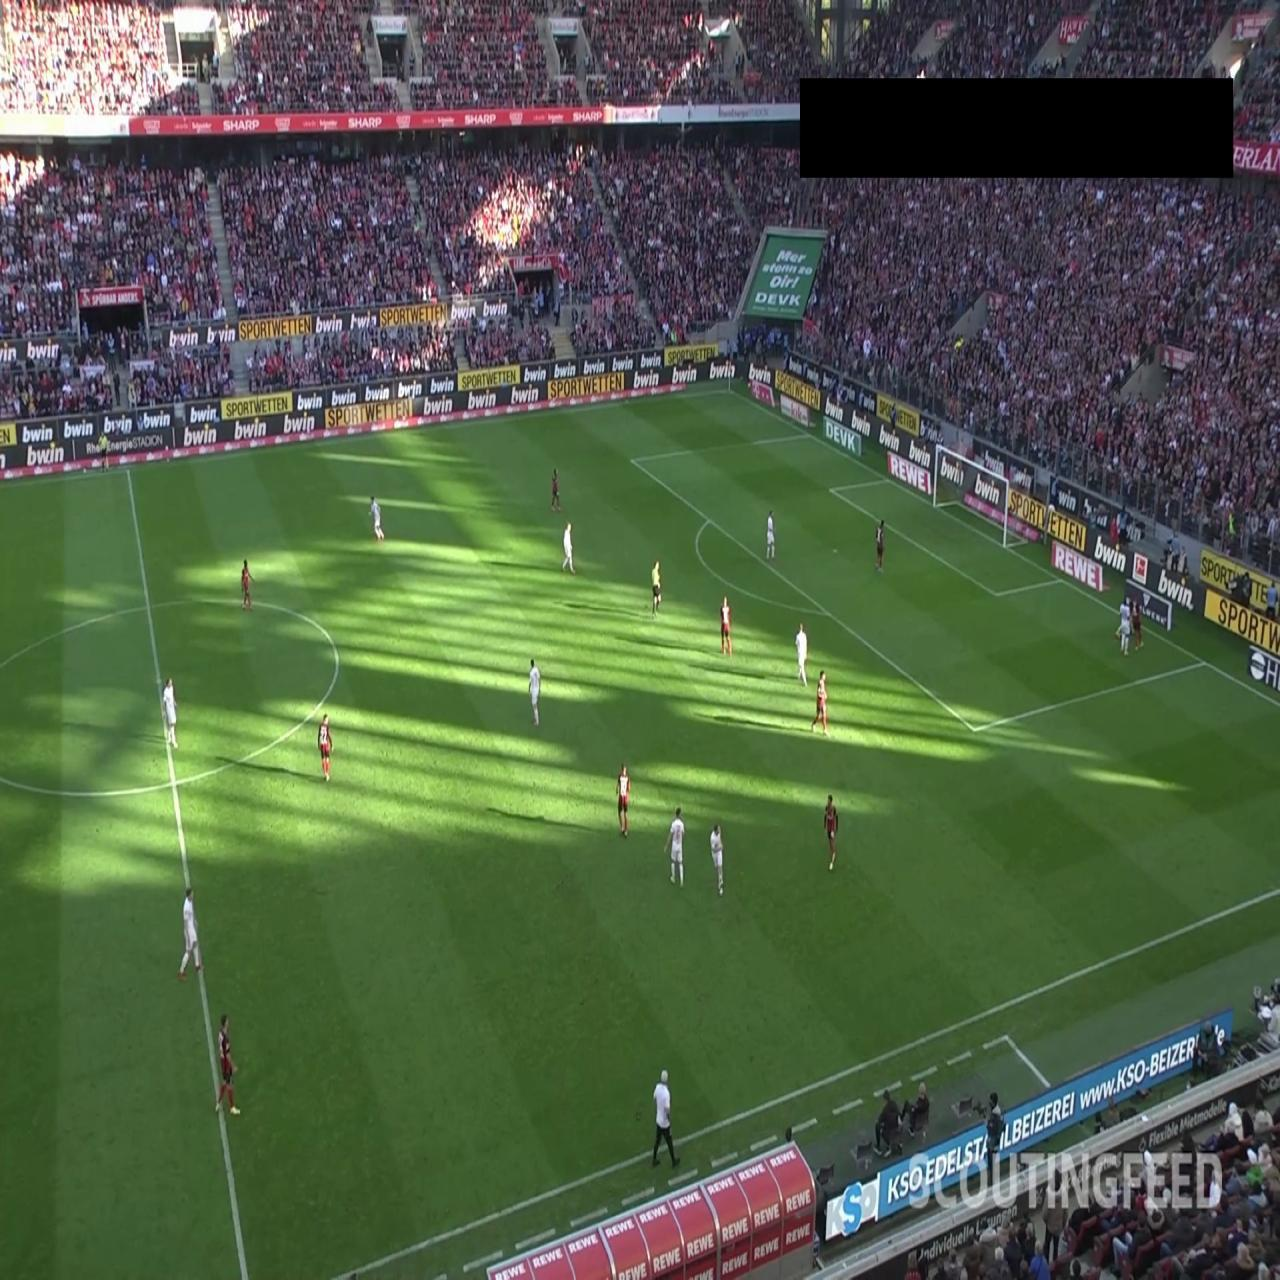Player: (177, 886, 204, 982), (216, 1012, 240, 1116), (663, 806, 685, 886), (810, 670, 830, 734), (615, 762, 631, 838), (162, 677, 179, 748), (824, 793, 838, 870), (318, 712, 333, 782), (710, 822, 724, 896), (794, 620, 809, 688), (1116, 598, 1132, 654), (528, 658, 540, 726), (720, 594, 733, 656), (368, 494, 384, 542), (562, 522, 576, 574), (240, 558, 254, 609), (1131, 598, 1144, 650), (874, 518, 886, 574), (550, 467, 562, 511), (766, 510, 776, 560)
Referee: (651, 560, 662, 616), (99, 430, 110, 475)
